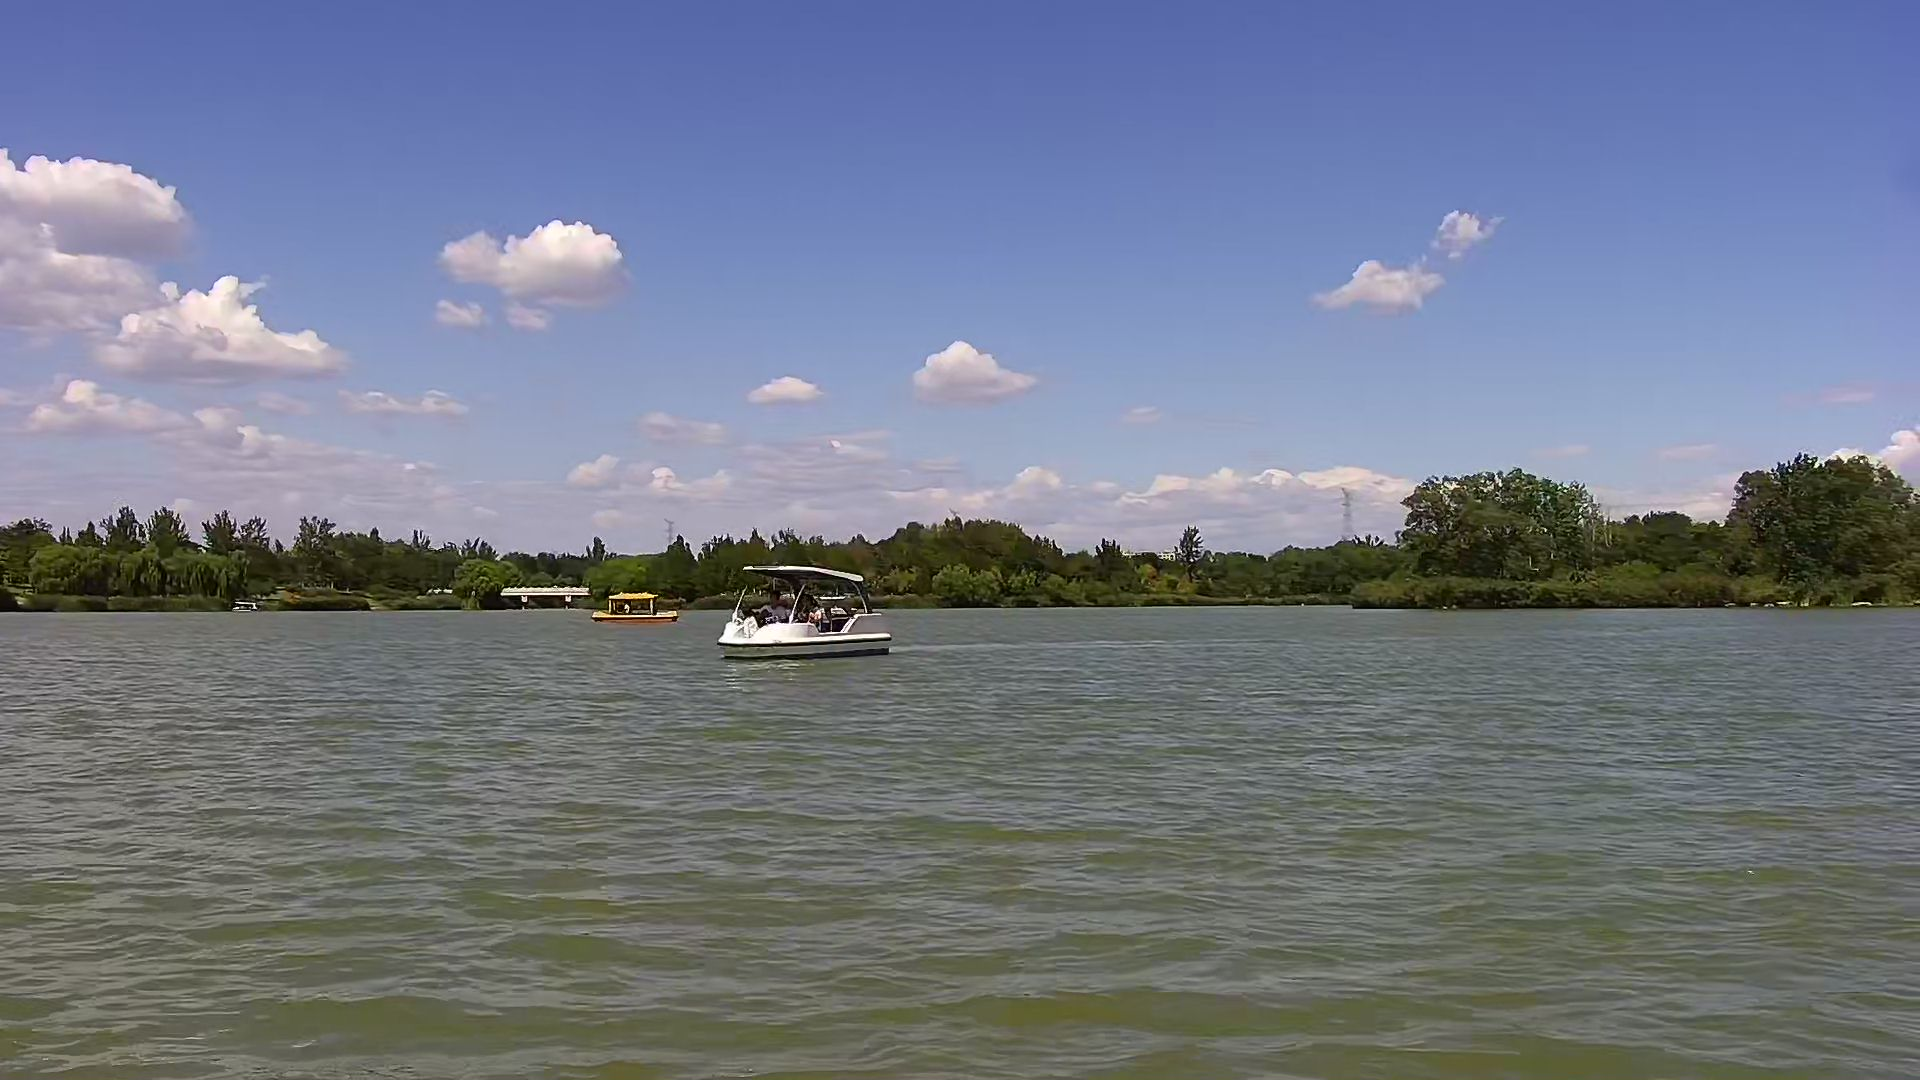boat: (723, 564, 897, 663), (597, 591, 676, 620)
bridge: (508, 583, 589, 608)
